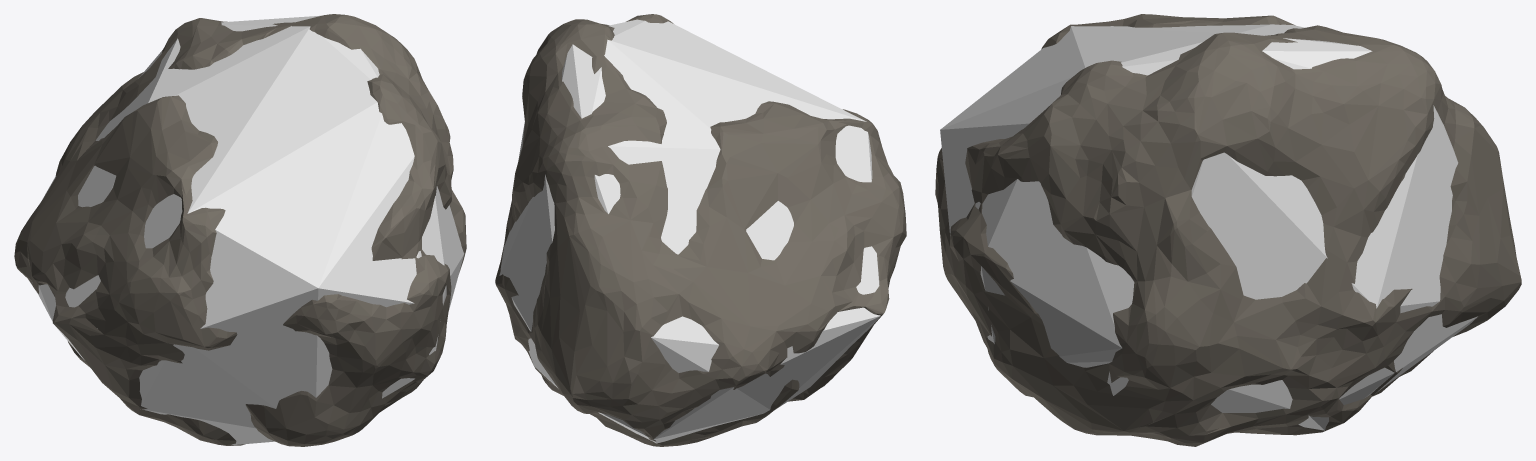
File: SM_Env_Asteroid_Large_02.fbx
3 views of the same model, side by side, from view 1: azimuth 30°, elevation 25°; view 2: azimuth 150°, elevation 25°; view 3: azimuth 270°, elevation 25° (orthographic). The views are drawn at different scales.
Parts seen in each view (by area): view 1: SM_Env_Asteroid_Large_02_LOD0, SM_Env_Asteroid_Large_02_ConvexHulls; view 2: SM_Env_Asteroid_Large_02_LOD0, SM_Env_Asteroid_Large_02_ConvexHulls; view 3: SM_Env_Asteroid_Large_02_LOD0, SM_Env_Asteroid_Large_02_ConvexHulls.
Boxes of the visible parts, x1,y1,x2,y2 form: SM_Env_Asteroid_Large_02_LOD0: (14,14,466,446); SM_Env_Asteroid_Large_02_ConvexHulls: (32,15,464,445); SM_Env_Asteroid_Large_02_LOD0: (495,14,906,446); SM_Env_Asteroid_Large_02_ConvexHulls: (499,19,880,443); SM_Env_Asteroid_Large_02_LOD0: (935,14,1521,446); SM_Env_Asteroid_Large_02_ConvexHulls: (940,24,1477,430).
Bounding box in the file's own units: 3205 × 2875 × 2640.
Materials: 1 (1 with a texture image).
